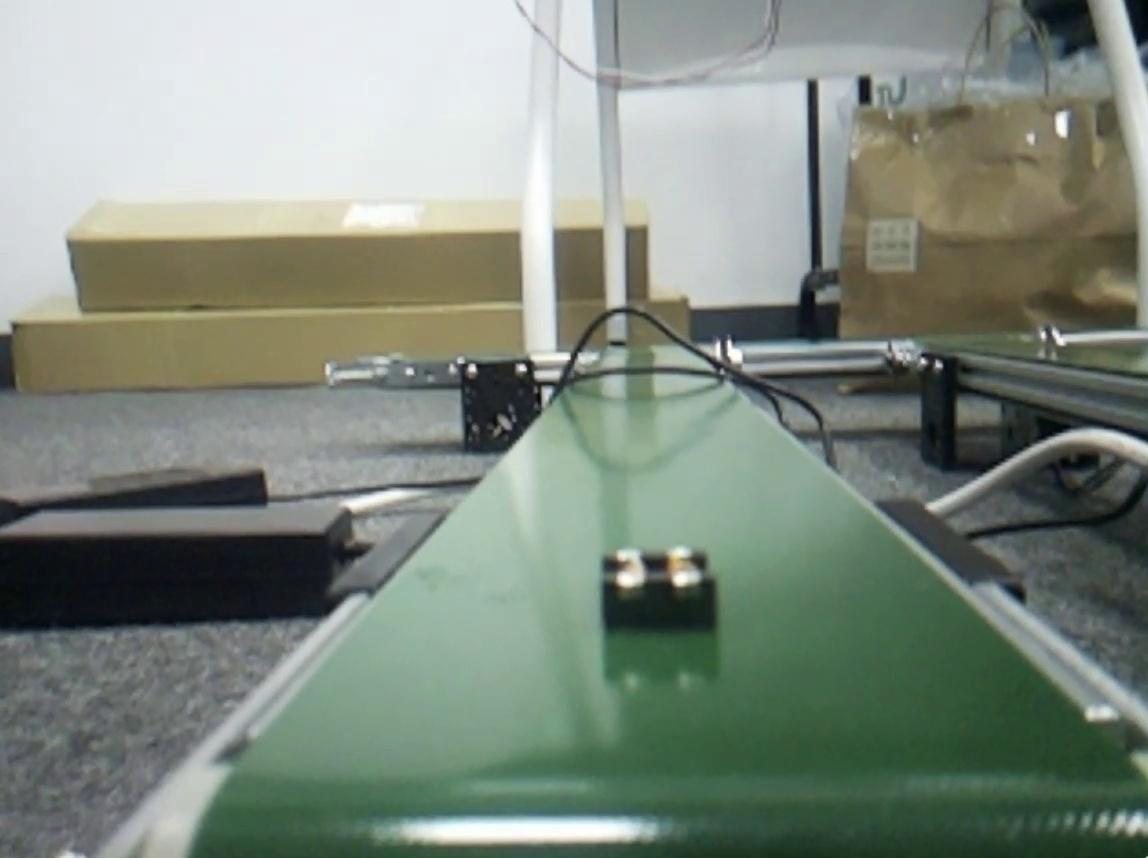inductor: (600, 547, 722, 632)
